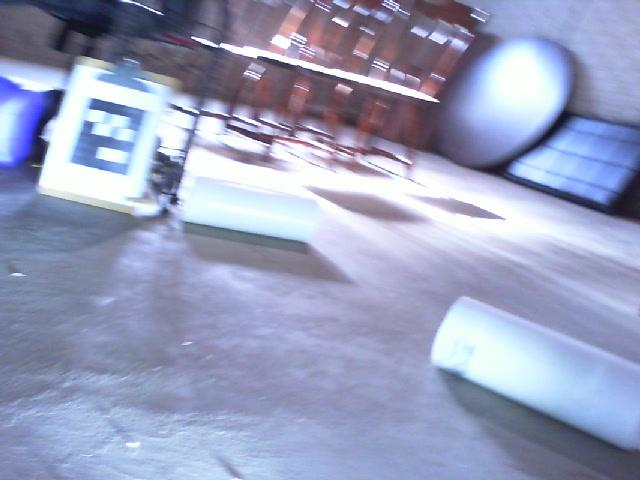coral: (431, 296, 640, 452), (180, 174, 319, 244)
